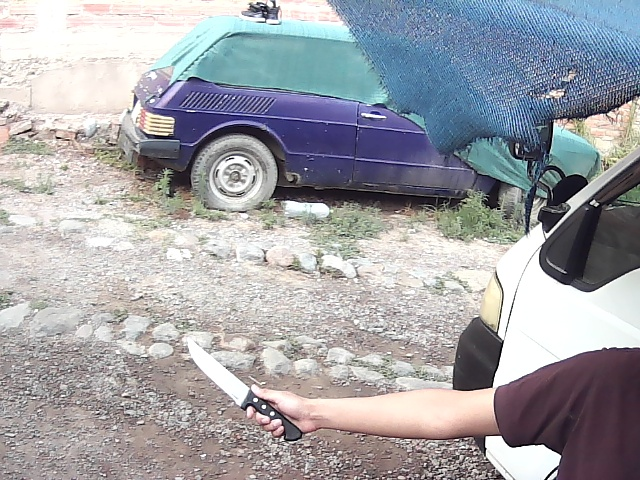cuchillo: (181, 330, 291, 434)
